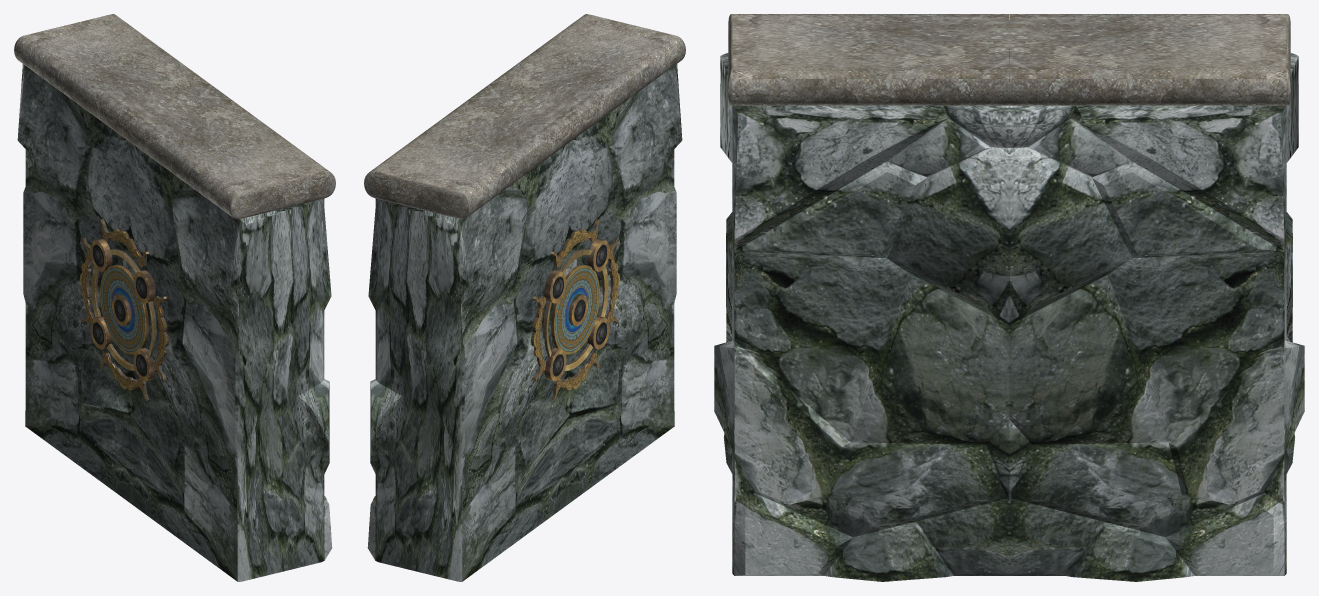
3 renders of one model, left to right at view 1: azimuth 30°, elevation 25°; view 2: azimuth 150°, elevation 25°; view 3: azimuth 270°, elevation 25°, orthographic. The views are drawn at different scales.
Visible parts, largest first — view 1: 新石门001; view 2: 新石门001; view 3: 新石门001.
Part boxes in pixels (bbox=[...]): 新石门001: bbox=[14, 14, 335, 581]; 新石门001: bbox=[364, 14, 685, 581]; 新石门001: bbox=[714, 14, 1304, 581].
Size of the model in its own units: 735 by 2353 by 2487.
